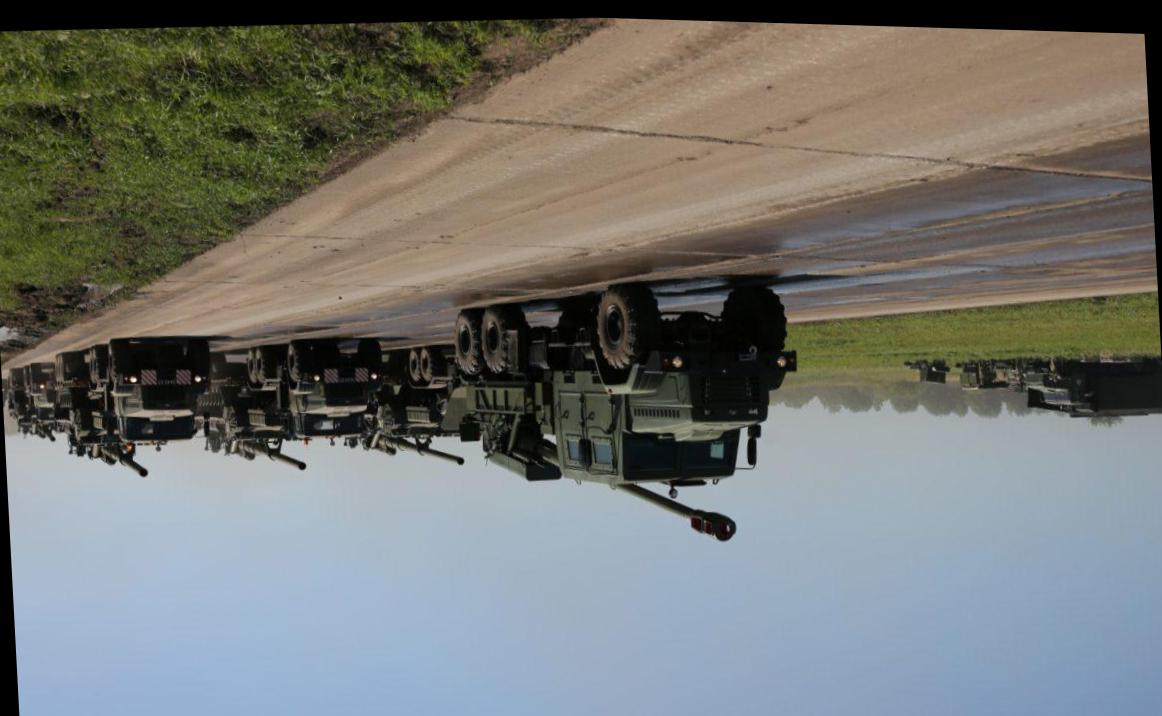sau: (454, 273, 806, 557), (192, 390, 312, 478), (45, 381, 151, 480), (354, 384, 464, 476)
truck: (243, 331, 386, 446), (79, 330, 208, 452), (1018, 341, 1162, 425)
